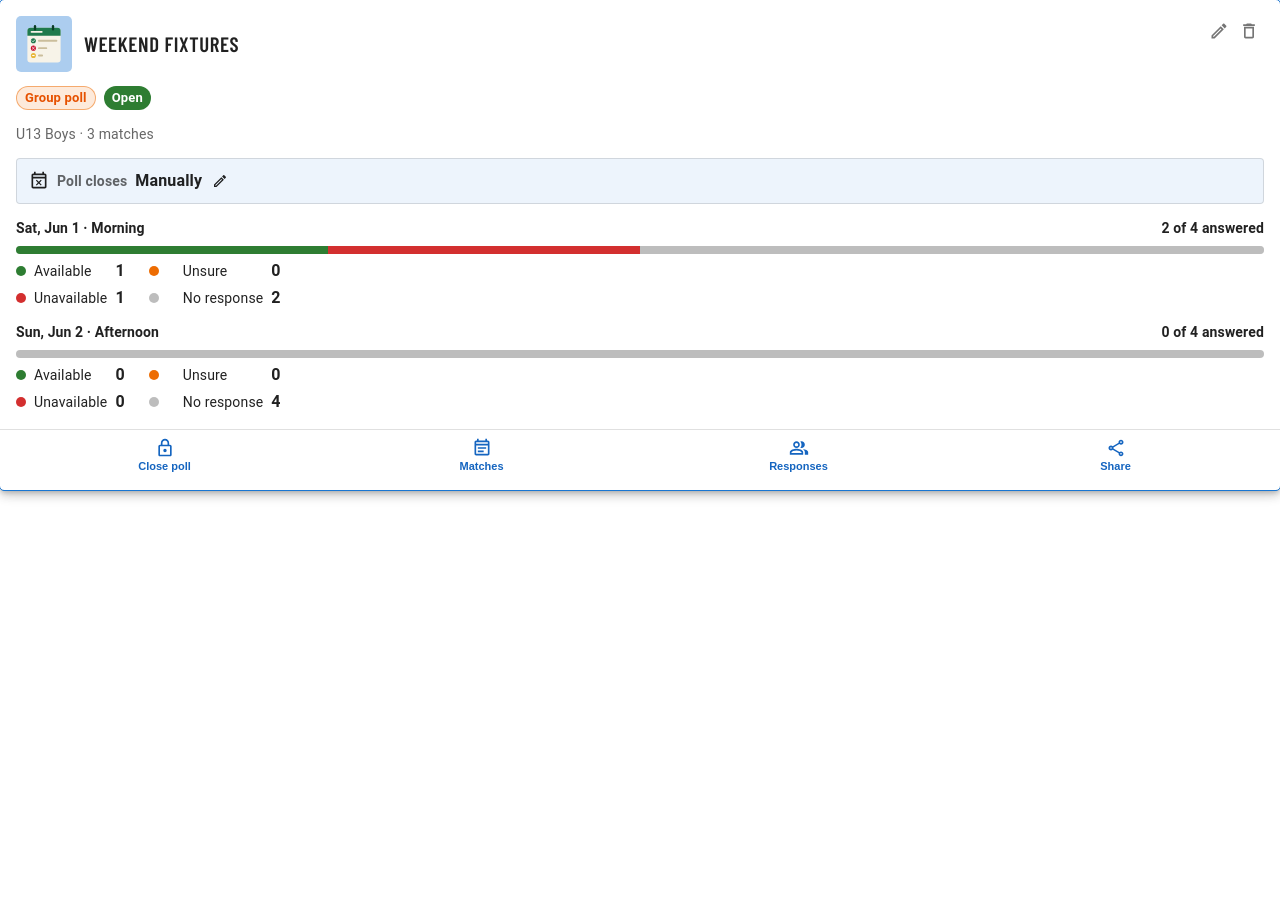
PollCard - group poll › Share opens the group invite dialog on an open group poll
Click the button with aria-label "Share invite".
click(1116, 456)  # box [959,430,1272,482]
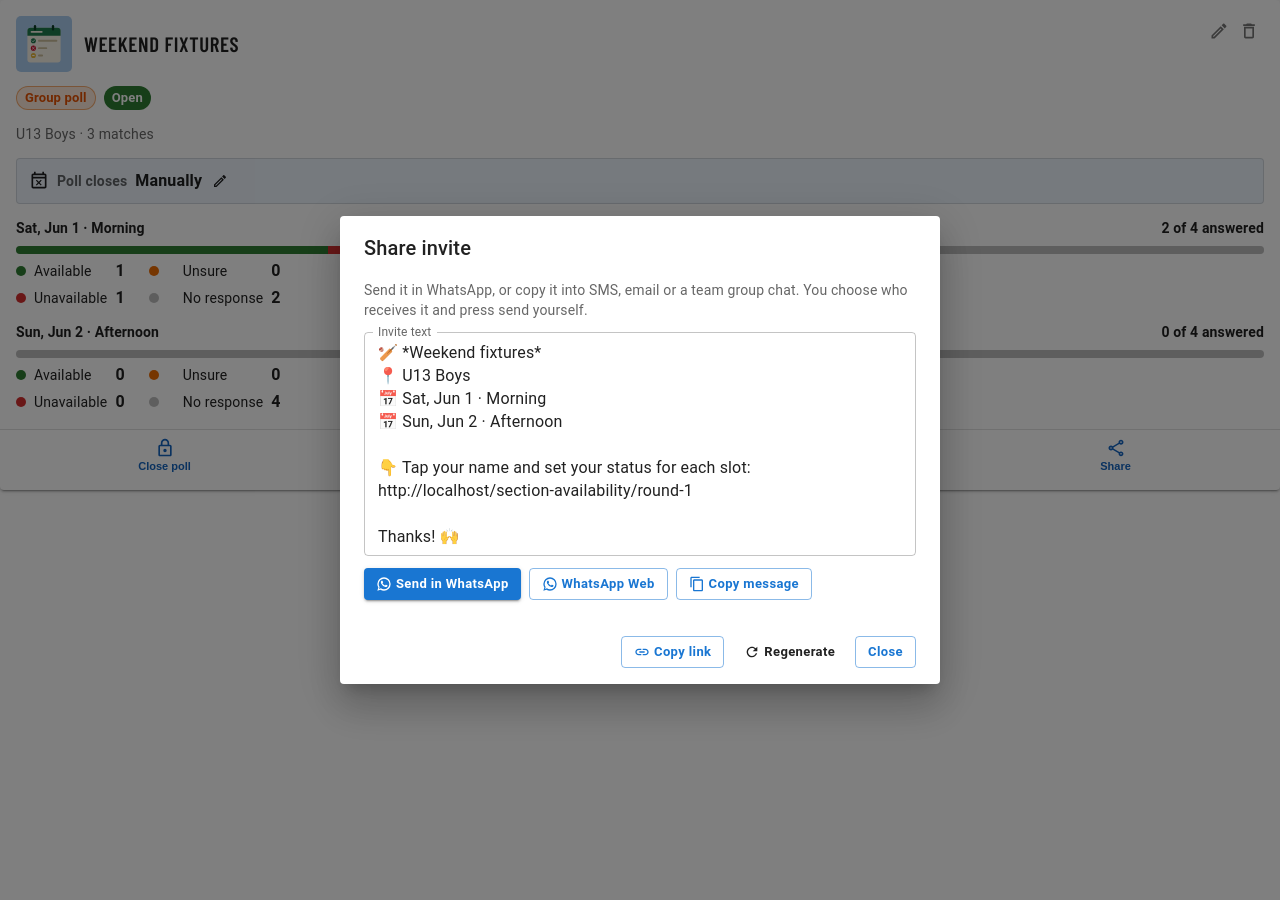
Expected: the dialog is shown, [340,216,940,684]
